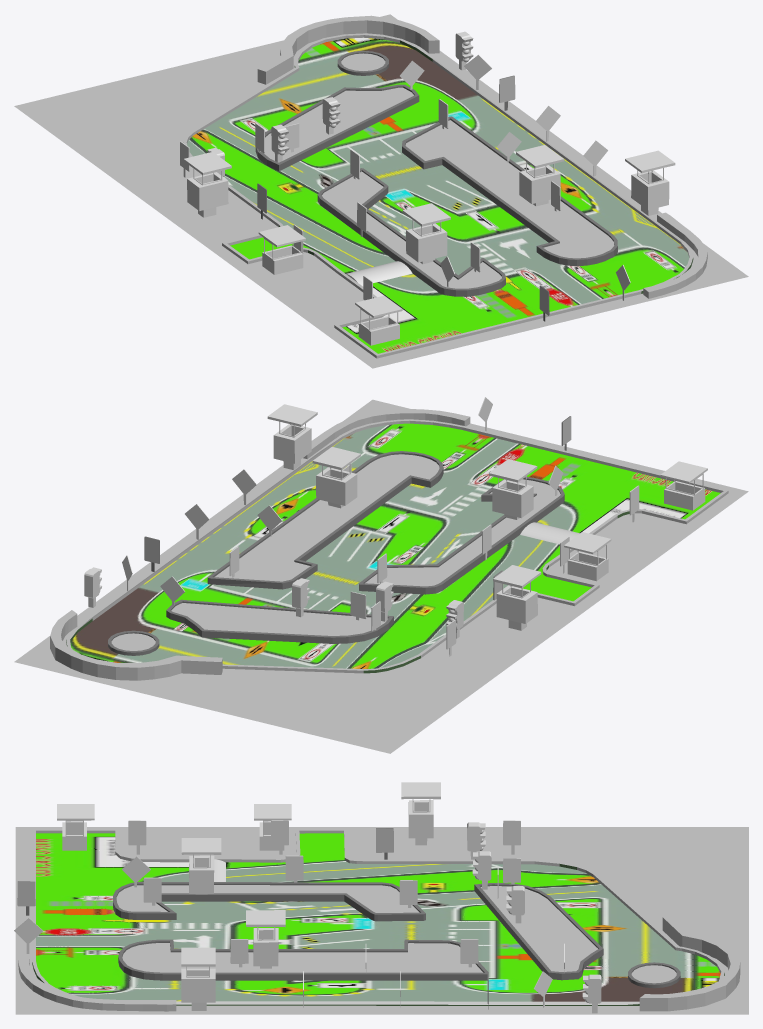
File: Turing Map.fbx
The picture shows the model from 3 angles, top to bottom: view 1: azimuth 30°, elevation 25°; view 2: azimuth 150°, elevation 25°; view 3: azimuth 270°, elevation 25°; orthographic projection. The views are drawn at different scales.
Visible parts, largest first — view 1: Pista, CasetaObservadora2 (×4), CasetaObservadora1 (×2), Ovalo, Cylinder001; view 2: Pista, CasetaObservadora2 (×4), CasetaObservadora1 (×2), Ovalo, Cylinder001; view 3: Pista, CasetaObservadora2 (×4), CasetaObservadora1 (×2), Ovalo, Semaforo, Semaforo002, Semaforo001, Semaforo003, Cartel, Cartel011, Cartel001, Cartel005 (+9 smaller).
Part boxes in pixels (left/top/right/bottom): Pista: left=14, top=14, right=748, bottom=368; CasetaObservadora2 (×4): left=183, top=145, right=675, bottom=264; CasetaObservadora1 (×2): left=258, top=225, right=402, bottom=345; Ovalo: left=337, top=50, right=388, bottom=75; Cylinder001: left=346, top=261, right=412, bottom=285; Pista: left=14, top=399, right=748, bottom=753; CasetaObservadora2 (×4): left=267, top=404, right=541, bottom=630; CasetaObservadora1 (×2): left=564, top=461, right=707, bottom=581; Ovalo: left=108, top=630, right=159, bottom=655; Cylinder001: left=520, top=522, right=579, bottom=544; Pista: left=15, top=827, right=748, bottom=1014; CasetaObservadora2 (×4): left=181, top=782, right=440, bottom=1010; CasetaObservadora1 (×2): left=57, top=804, right=291, bottom=850; Ovalo: left=628, top=962, right=680, bottom=988; Semaforo: left=582, top=974, right=601, bottom=1013; Semaforo002: left=472, top=851, right=491, bottom=889; Semaforo001: left=506, top=886, right=524, bottom=923; Semaforo003: left=467, top=822, right=485, bottom=859; Cartel: left=128, top=820, right=146, bottom=854; Cartel011: left=17, top=881, right=35, bottom=915; Cartel001: left=271, top=820, right=288, bottom=854; Cartel005: left=503, top=820, right=520, bottom=854.
Size of the model in its own units: 122 by 19.17 by 198.
